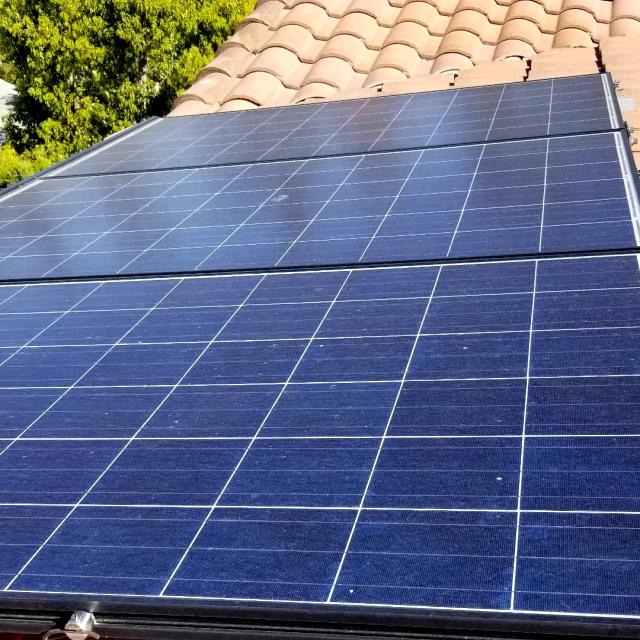dust: (27, 300, 208, 430), (250, 291, 394, 428), (418, 266, 520, 428), (538, 256, 628, 422), (540, 451, 634, 604), (213, 510, 335, 611), (364, 513, 512, 594), (59, 510, 187, 590), (390, 448, 518, 508), (256, 432, 364, 500), (121, 450, 216, 496)
